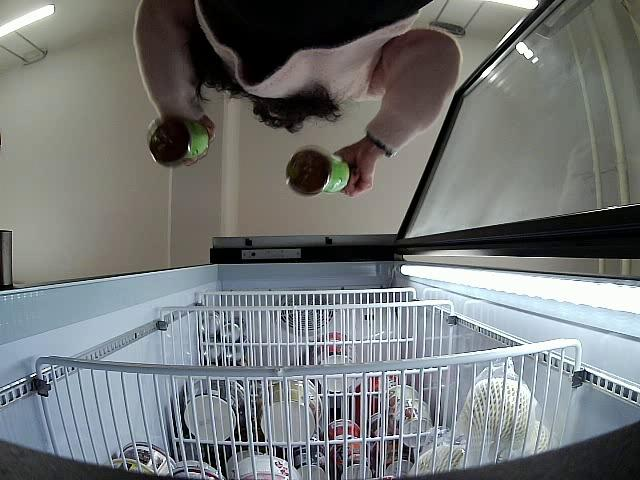00_hand: (333, 141, 376, 198)
19_17cha: (286, 147, 351, 195), (149, 118, 210, 168)
